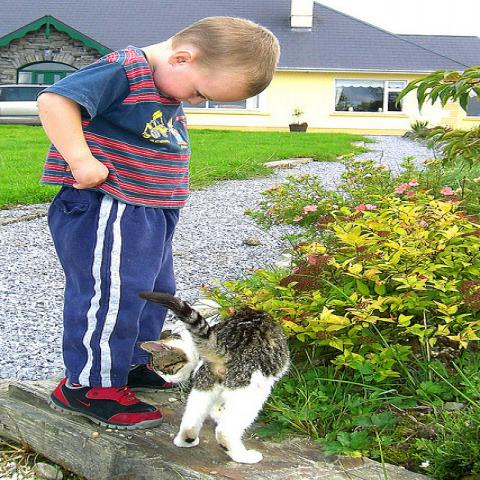car: (0, 84, 54, 126)
